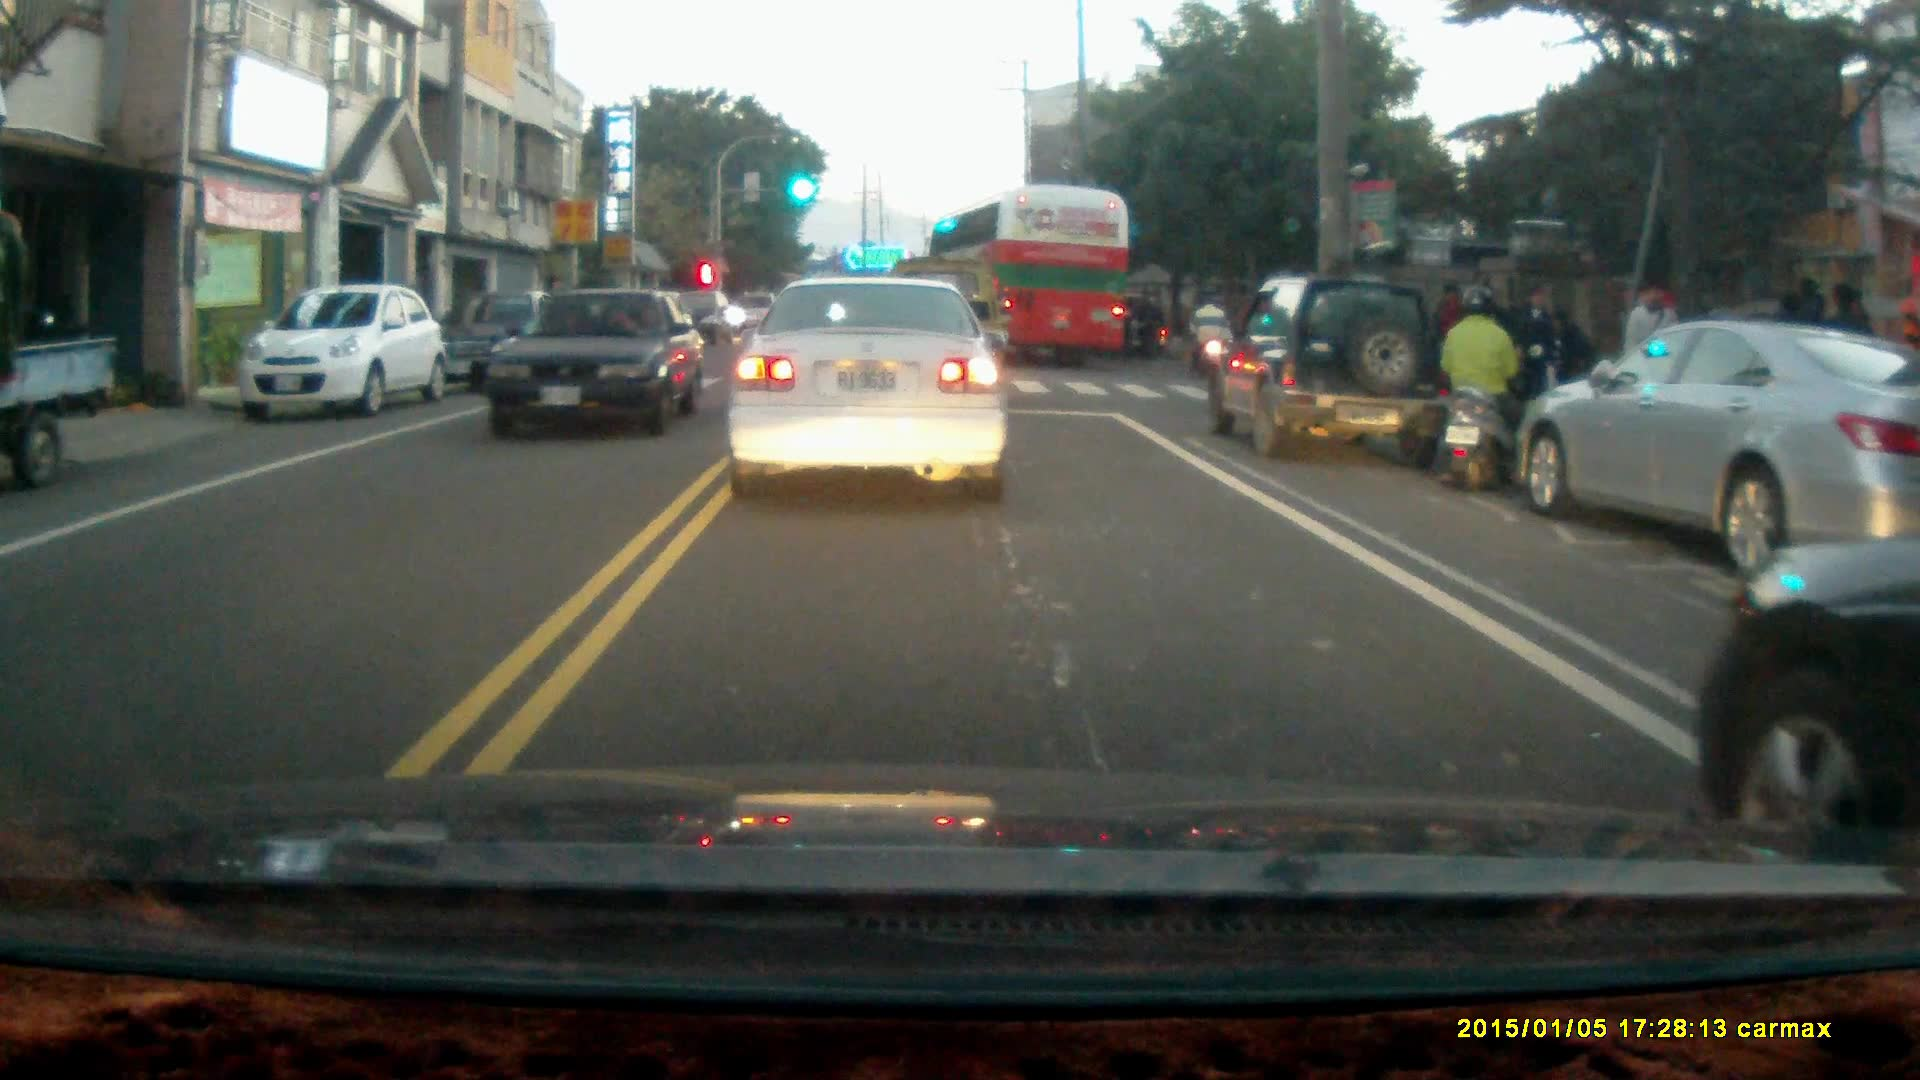pedestrian: (1613, 276, 1680, 421), (1511, 283, 1562, 426)
rider: (1435, 283, 1528, 498), (1112, 293, 1170, 363), (1185, 290, 1226, 374)
vehicle: (1520, 323, 1920, 582), (722, 270, 1012, 506), (1707, 547, 1920, 840), (1201, 275, 1455, 464), (929, 188, 1137, 375), (485, 286, 707, 443), (1, 250, 120, 487), (236, 284, 441, 418)
